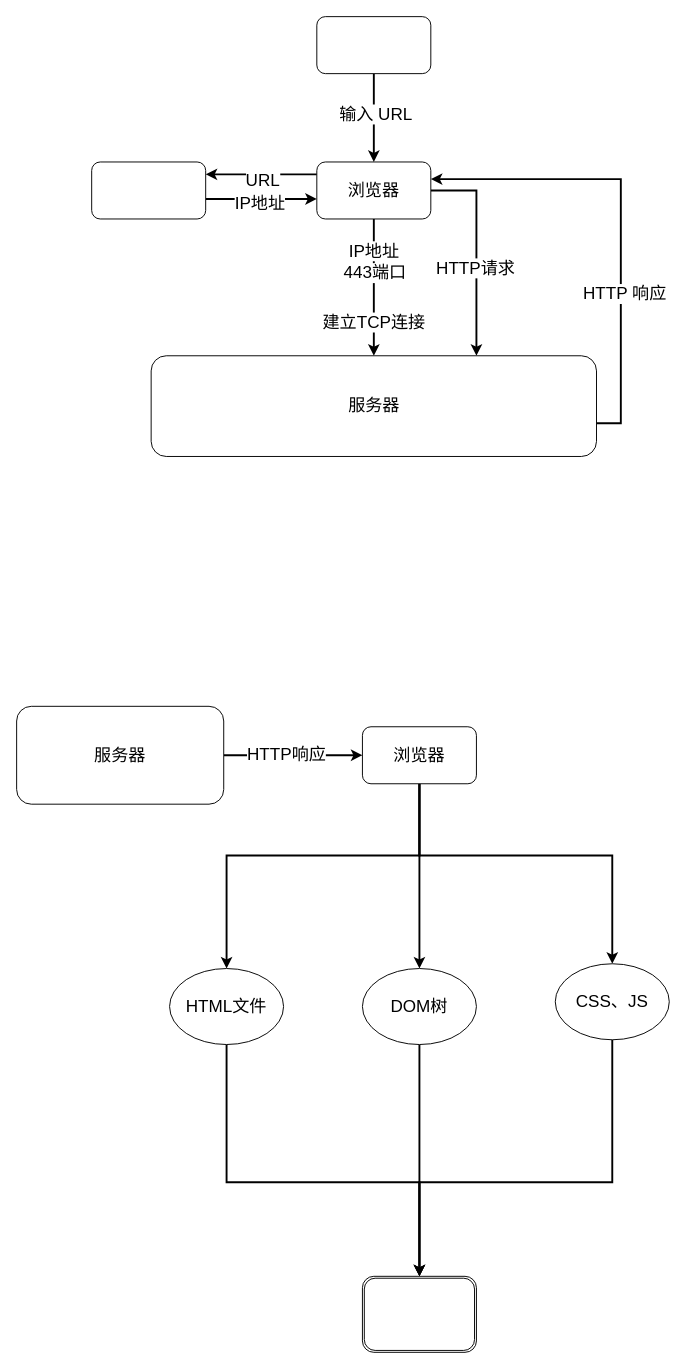
The diagram is 686 pixels wide and 1369 high, and some of its shapes have lost their labels. The centre of each missing label's shape, as x and y in pixels:
DNS 服务器: (148,190)
用户: (373,45)
页面: (418,1313)
